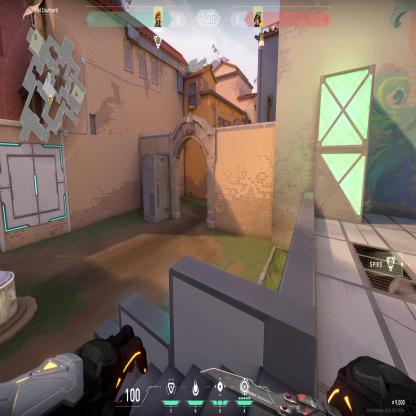enemy: (206, 192, 208, 222)
